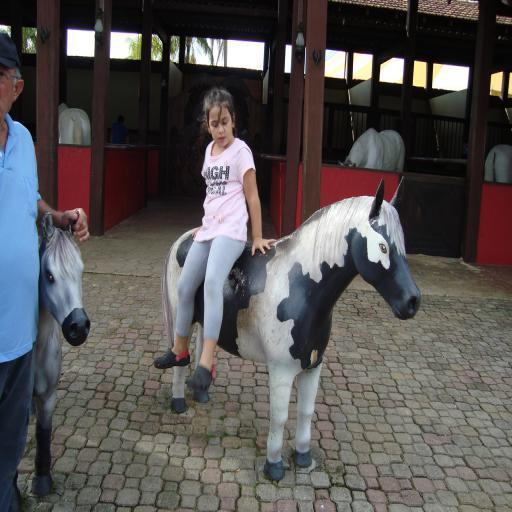horse: (160, 174, 422, 484), (30, 211, 92, 501)
